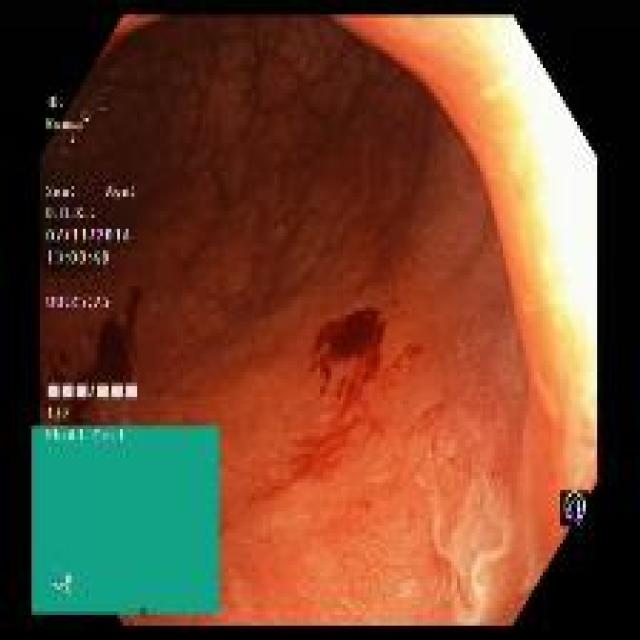ulcerative-colitis: (40, 19, 528, 622)
